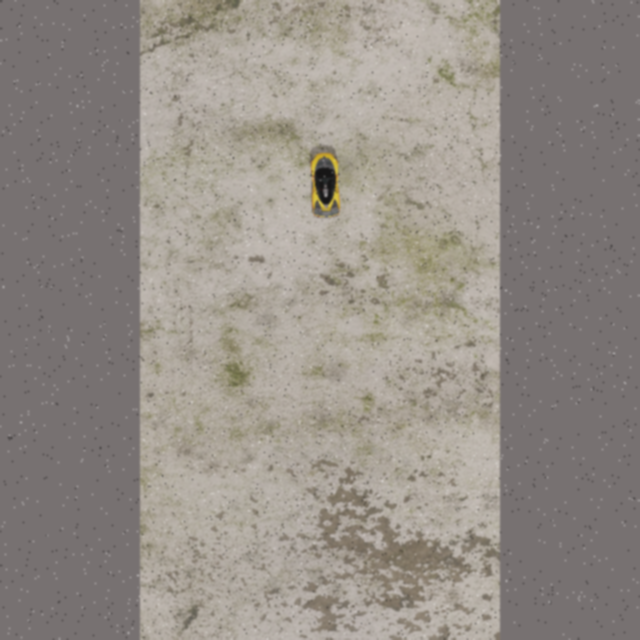car: (308, 148, 341, 220)
